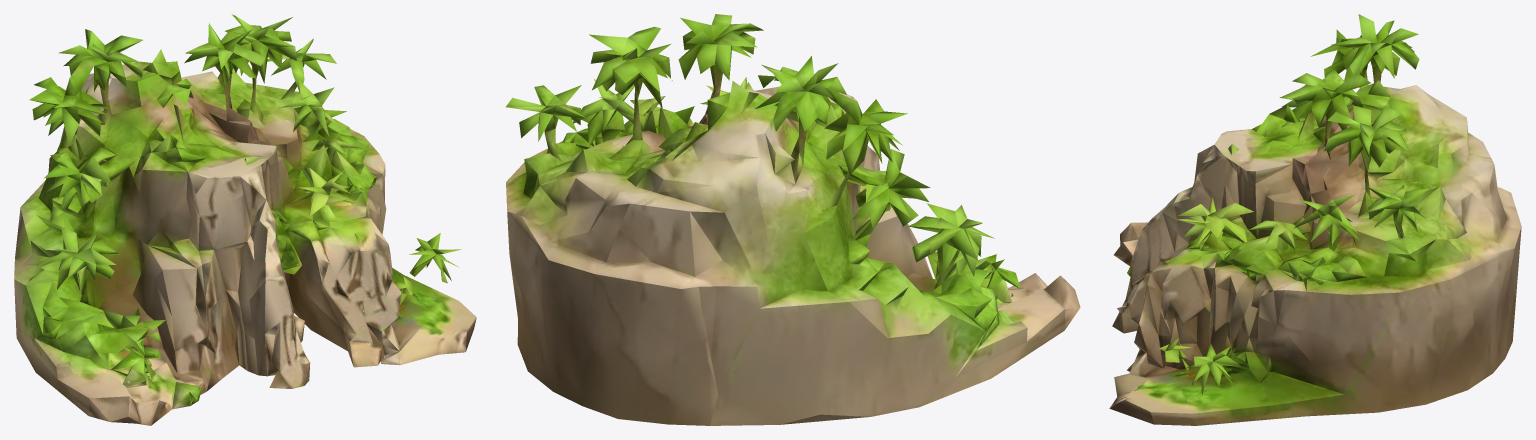
The model's file is m2SeaCliffBg.glb.
3 renders of one model, left to right at view 1: azimuth 30°, elevation 25°; view 2: azimuth 150°, elevation 25°; view 3: azimuth 270°, elevation 25°, orthographic. The views are drawn at different scales.
Visible parts, largest first — view 1: model; view 2: model; view 3: model.
Boxes of the visible parts, box(x1,y1,x2,y2) form: model: box(14, 14, 476, 425); model: box(505, 14, 1080, 425); model: box(1109, 14, 1521, 425).
Bounding box in the file's own units: 1.9 × 1.28 × 1.75.
Materials: 1 (1 with a texture image).
